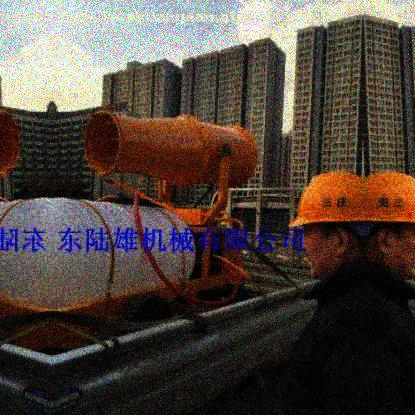helmet: (289, 171, 364, 281), (364, 172, 413, 284)
